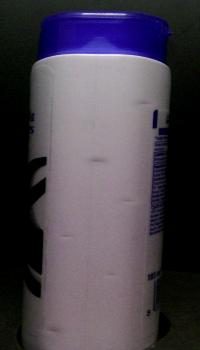dent_marginal: (46, 229, 95, 248), (73, 152, 116, 171), (87, 267, 136, 283), (42, 320, 75, 342), (116, 194, 150, 211), (129, 92, 154, 113)
